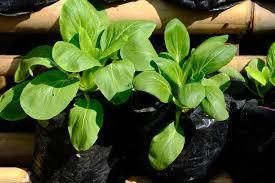Healthy-Pechay: (0, 1, 243, 159), (19, 72, 81, 120)
